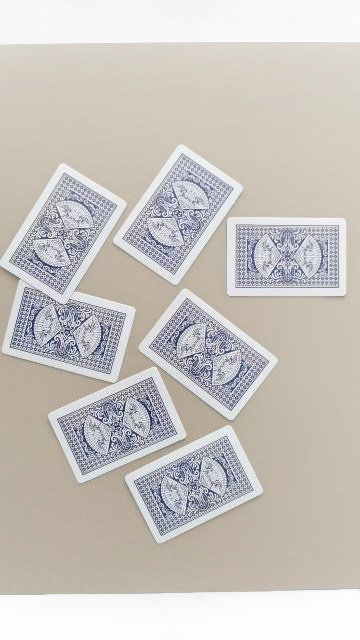card: (114, 145, 243, 285), (0, 164, 126, 304), (140, 290, 276, 419), (125, 426, 262, 544), (49, 370, 185, 482), (2, 280, 135, 382), (228, 218, 346, 296)
